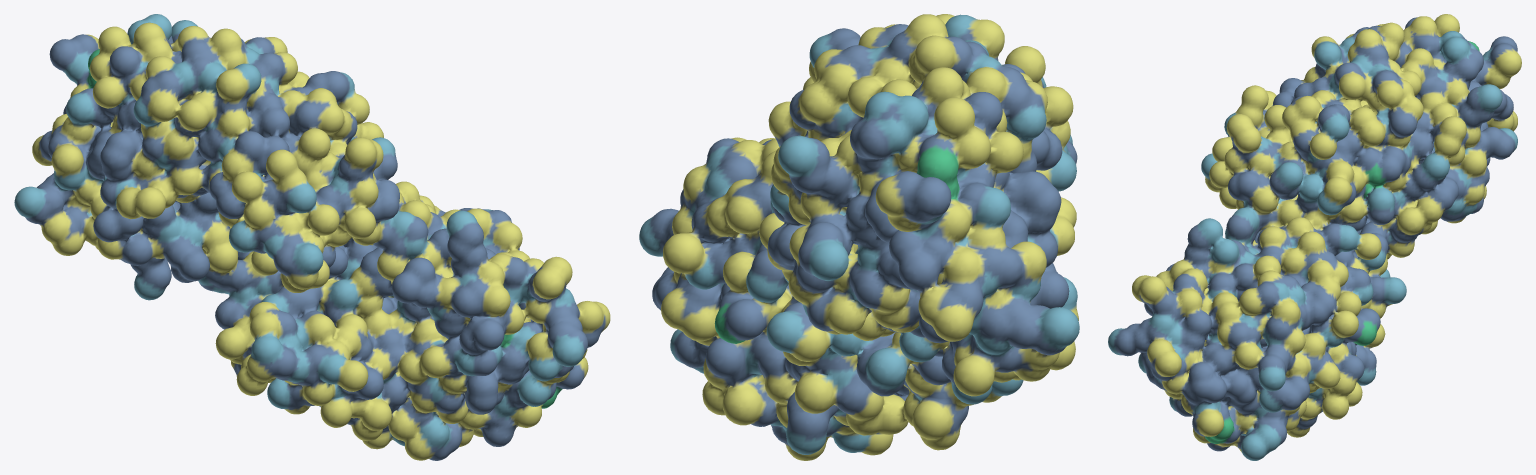
The model's file is subsurf.glb.
3 views of the same model, side by side, from view 1: azimuth 30°, elevation 25°; view 2: azimuth 150°, elevation 25°; view 3: azimuth 270°, elevation 25° (orthographic). The views are drawn at different scales.
Visible parts, largest first — view 1: geo1; view 2: geo1; view 3: geo1.
Part boxes in pixels (<box>): geo1: <box>14,14,610,460</box>; geo1: <box>639,14,1079,460</box>; geo1: <box>1108,14,1521,460</box>.
Size of the model in its own units: 63.15 by 55.79 by 59.88.
